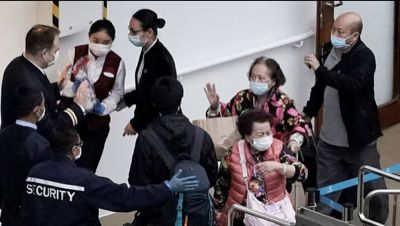with-mask: (328, 9, 369, 55), (241, 112, 278, 154), (85, 16, 118, 63), (246, 61, 282, 96), (124, 9, 155, 48), (54, 129, 88, 164), (38, 28, 61, 73), (28, 84, 50, 128)
